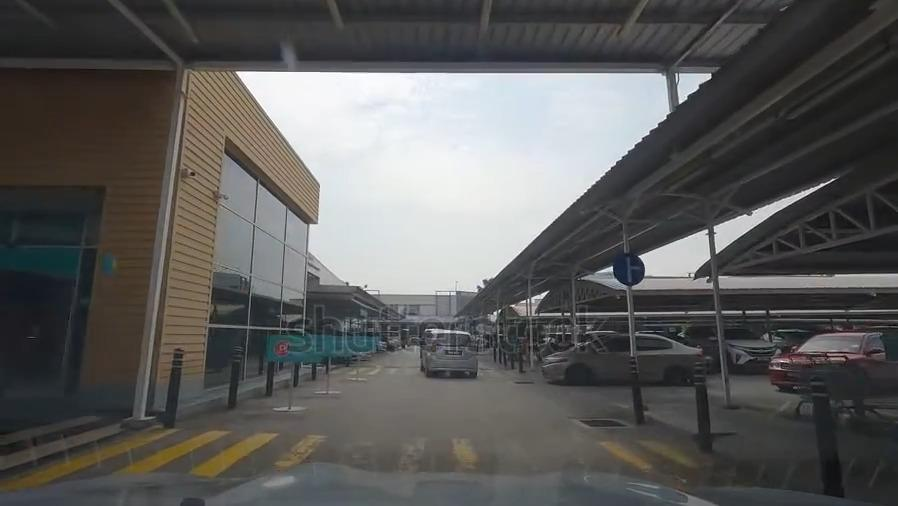car: (542, 332, 705, 383), (772, 334, 898, 392), (687, 324, 780, 370), (422, 327, 483, 379), (765, 325, 807, 346)
manhole: (573, 415, 630, 433), (510, 376, 536, 387)
pedestrian: (2, 435, 709, 487), (323, 365, 516, 374)
